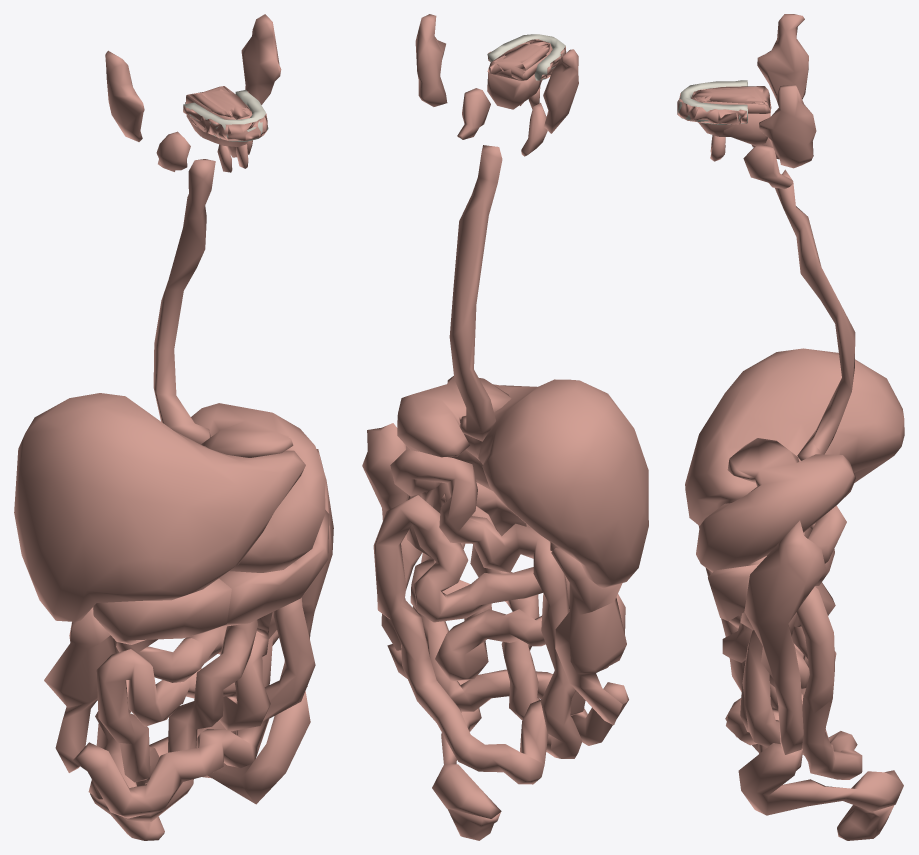
The model's file is icrp_adult_male.digestive.LOD3.glb.
The picture shows the model from 3 angles, left to right: view 1: azimuth 30°, elevation 25°; view 2: azimuth 150°, elevation 25°; view 3: azimuth 270°, elevation 25°; orthographic projection. The views are drawn at different scales.
Visible parts, largest first — view 1: ICRP.ADULT.MALE.DIGESTIVE.LIVER, ICRP.ADULT.MALE.DIGESTIVE.SMALL_INTESTINE_WALL, ICRP.ADULT.MALE.DIGESTIVE.STOMACH_WALL, ICRP.ADULT.MALE.DIGESTIVE.OESOPHAGUS_WALL, ICRP.ADULT.MALE.DIGESTIVE.TRANSVERSE_COLON_WALL.R, ICRP.ADULT.MALE.DIGESTIVE.ASCENDING_COLON_WALL, ICRP.ADULT.MALE.DIGESTIVE.TRANSVERSE_COLON_WALL.L, ICRP.ADULT.MALE.DIGESTIVE.SIGMOID_COLON_WALL, ICRP.ADULT.MALE.DIGESTIVE.SALIVARY_GLANDS.R, ICRP.ADULT.MALE.DIGESTIVE.SALIVARY_GLANDS.L, ICRP.ADULT.MALE.DIGESTIVE.ORAL_MUCOSA_LIP_AND_CHEEKS, ICRP.ADULT.MALE.DIGESTIVE.DESCENDING_COLON_WALL (+3 smaller); view 2: ICRP.ADULT.MALE.DIGESTIVE.SMALL_INTESTINE_WALL, ICRP.ADULT.MALE.DIGESTIVE.LIVER, ICRP.ADULT.MALE.DIGESTIVE.OESOPHAGUS_WALL, ICRP.ADULT.MALE.DIGESTIVE.ASCENDING_COLON_WALL, ICRP.ADULT.MALE.DIGESTIVE.STOMACH_WALL, ICRP.ADULT.MALE.DIGESTIVE.DESCENDING_COLON_WALL, ICRP.ADULT.MALE.DIGESTIVE.SALIVARY_GLANDS.L, ICRP.ADULT.MALE.DIGESTIVE.SIGMOID_COLON_WALL, ICRP.ADULT.MALE.DIGESTIVE.SALIVARY_GLANDS.R, ICRP.ADULT.MALE.DIGESTIVE.ORAL_MUCOSA_MOUTH_FLOOR, ICRP.ADULT.MALE.DIGESTIVE.TONGUE_LOWER_SURFACE, ICRP.ADULT.MALE.DIGESTIVE.TRANSVERSE_COLON_WALL.L (+2 smaller); view 3: ICRP.ADULT.MALE.DIGESTIVE.LIVER, ICRP.ADULT.MALE.DIGESTIVE.SMALL_INTESTINE_WALL, ICRP.ADULT.MALE.DIGESTIVE.STOMACH_WALL, ICRP.ADULT.MALE.DIGESTIVE.DESCENDING_COLON_WALL, ICRP.ADULT.MALE.DIGESTIVE.SIGMOID_COLON_WALL, ICRP.ADULT.MALE.DIGESTIVE.OESOPHAGUS_WALL, ICRP.ADULT.MALE.DIGESTIVE.SALIVARY_GLANDS.L, ICRP.ADULT.MALE.DIGESTIVE.SALIVARY_GLANDS.R, ICRP.ADULT.MALE.DIGESTIVE.TRANSVERSE_COLON_WALL.L, ICRP.ADULT.MALE.DIGESTIVE.RECTUM_WALL, ICRP.ADULT.MALE.DIGESTIVE.ORAL_MUCOSA_MOUTH_FLOOR, ICRP.ADULT.MALE.DIGESTIVE.TEETH (+3 smaller).
Boxes of the visible parts, bbox=[...] form: ICRP.ADULT.MALE.DIGESTIVE.LIVER: bbox=[14, 393, 305, 621]; ICRP.ADULT.MALE.DIGESTIVE.SMALL_INTESTINE_WALL: bbox=[72, 597, 315, 821]; ICRP.ADULT.MALE.DIGESTIVE.STOMACH_WALL: bbox=[191, 403, 325, 572]; ICRP.ADULT.MALE.DIGESTIVE.OESOPHAGUS_WALL: bbox=[153, 159, 215, 445]; ICRP.ADULT.MALE.DIGESTIVE.TRANSVERSE_COLON_WALL.R: bbox=[93, 578, 231, 644]; ICRP.ADULT.MALE.DIGESTIVE.ASCENDING_COLON_WALL: bbox=[44, 607, 115, 772]; ICRP.ADULT.MALE.DIGESTIVE.TRANSVERSE_COLON_WALL.L: bbox=[219, 510, 329, 627]; ICRP.ADULT.MALE.DIGESTIVE.SIGMOID_COLON_WALL: bbox=[88, 691, 310, 804]; ICRP.ADULT.MALE.DIGESTIVE.SALIVARY_GLANDS.R: bbox=[105, 50, 232, 172]; ICRP.ADULT.MALE.DIGESTIVE.SALIVARY_GLANDS.L: bbox=[228, 14, 281, 168]; ICRP.ADULT.MALE.DIGESTIVE.ORAL_MUCOSA_LIP_AND_CHEEKS: bbox=[183, 90, 267, 140]; ICRP.ADULT.MALE.DIGESTIVE.DESCENDING_COLON_WALL: bbox=[284, 449, 333, 686]; ICRP.ADULT.MALE.DIGESTIVE.SMALL_INTESTINE_WALL: bbox=[373, 449, 628, 784]; ICRP.ADULT.MALE.DIGESTIVE.LIVER: bbox=[464, 379, 648, 588]; ICRP.ADULT.MALE.DIGESTIVE.OESOPHAGUS_WALL: bbox=[449, 145, 502, 441]; ICRP.ADULT.MALE.DIGESTIVE.ASCENDING_COLON_WALL: bbox=[551, 548, 626, 725]; ICRP.ADULT.MALE.DIGESTIVE.STOMACH_WALL: bbox=[397, 376, 511, 490]; ICRP.ADULT.MALE.DIGESTIVE.DESCENDING_COLON_WALL: bbox=[362, 423, 422, 650]; ICRP.ADULT.MALE.DIGESTIVE.SALIVARY_GLANDS.L: bbox=[415, 14, 523, 139]; ICRP.ADULT.MALE.DIGESTIVE.SIGMOID_COLON_WALL: bbox=[387, 644, 501, 818]; ICRP.ADULT.MALE.DIGESTIVE.SALIVARY_GLANDS.R: bbox=[521, 49, 578, 156]; ICRP.ADULT.MALE.DIGESTIVE.ORAL_MUCOSA_MOUTH_FLOOR: bbox=[487, 39, 549, 80]; ICRP.ADULT.MALE.DIGESTIVE.TONGUE_LOWER_SURFACE: bbox=[487, 73, 542, 109]; ICRP.ADULT.MALE.DIGESTIVE.TRANSVERSE_COLON_WALL.L: bbox=[476, 482, 526, 535]; ICRP.ADULT.MALE.DIGESTIVE.LIVER: bbox=[685, 348, 904, 525]; ICRP.ADULT.MALE.DIGESTIVE.SMALL_INTESTINE_WALL: bbox=[721, 505, 862, 779]; ICRP.ADULT.MALE.DIGESTIVE.STOMACH_WALL: bbox=[696, 438, 856, 572]; ICRP.ADULT.MALE.DIGESTIVE.DESCENDING_COLON_WALL: bbox=[744, 520, 825, 754]; ICRP.ADULT.MALE.DIGESTIVE.SIGMOID_COLON_WALL: bbox=[738, 743, 903, 815]; ICRP.ADULT.MALE.DIGESTIVE.OESOPHAGUS_WALL: bbox=[775, 169, 855, 460]; ICRP.ADULT.MALE.DIGESTIVE.SALIVARY_GLANDS.L: bbox=[710, 84, 816, 189]; ICRP.ADULT.MALE.DIGESTIVE.SALIVARY_GLANDS.R: bbox=[710, 14, 808, 159]; ICRP.ADULT.MALE.DIGESTIVE.TRANSVERSE_COLON_WALL.L: bbox=[706, 564, 758, 621]; ICRP.ADULT.MALE.DIGESTIVE.RECTUM_WALL: bbox=[837, 805, 894, 840]; ICRP.ADULT.MALE.DIGESTIVE.ORAL_MUCOSA_MOUTH_FLOOR: bbox=[693, 86, 770, 111]; ICRP.ADULT.MALE.DIGESTIVE.TEETH: bbox=[678, 80, 747, 124].
Bounding box in the file's own units: 0.2708 × 0.7423 × 0.1925.
